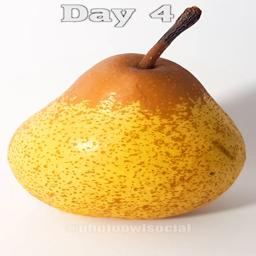Pear Semirotten: (7, 4, 251, 221)
